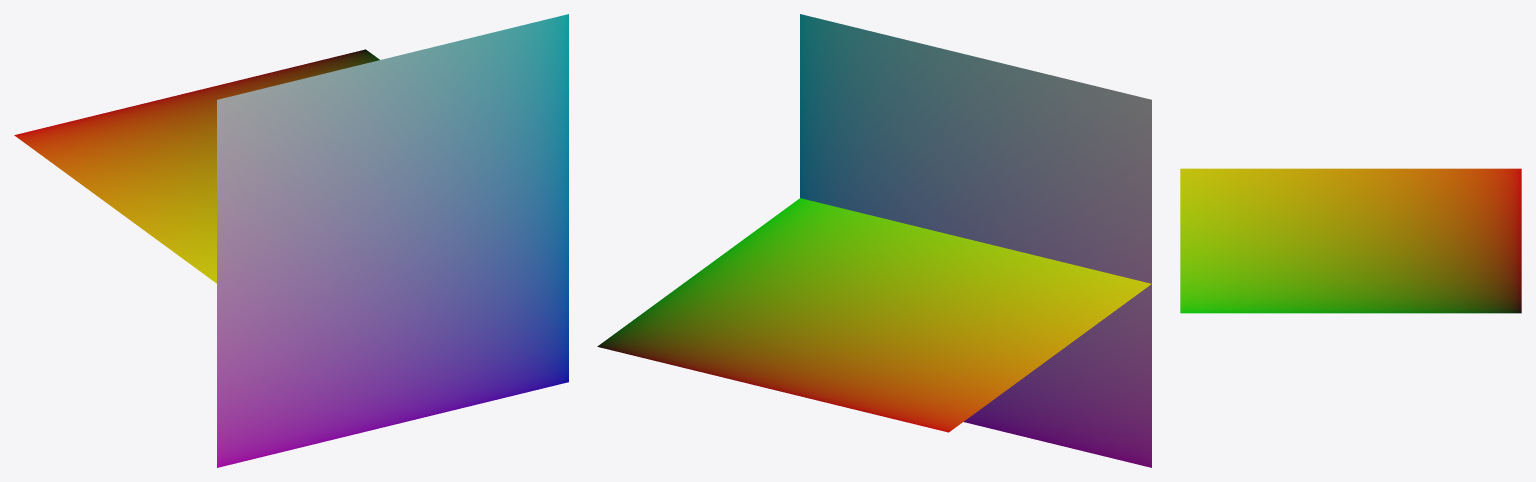
Rendered from ocean2.obj.
3 views of the same model, side by side, from view 1: azimuth 30°, elevation 25°; view 2: azimuth 150°, elevation 25°; view 3: azimuth 270°, elevation 25° (orthographic). The views are drawn at different scales.
Parts seen in each view (by area): view 1: Plane; view 2: Plane; view 3: Plane.
Part boxes in pixels (x1,y1,x2,y2): Plane: (14,14,568,467); Plane: (597,14,1151,467); Plane: (1180,168,1521,313).
Bounding box in the file's own units: 2 × 2 × 2.
